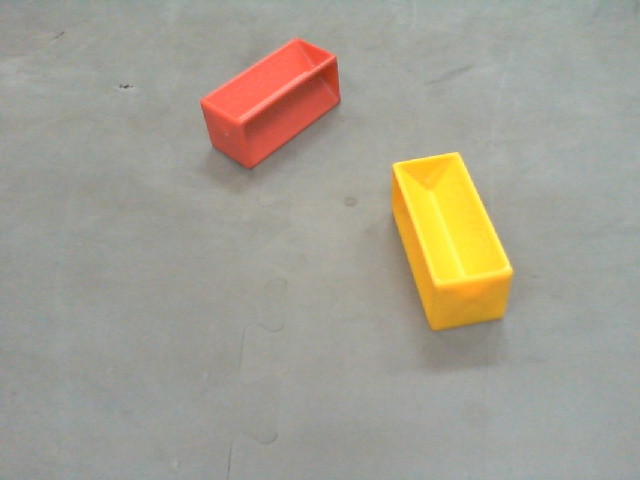RedSample: (199, 37, 342, 170)
YellowSample: (388, 149, 517, 334)
